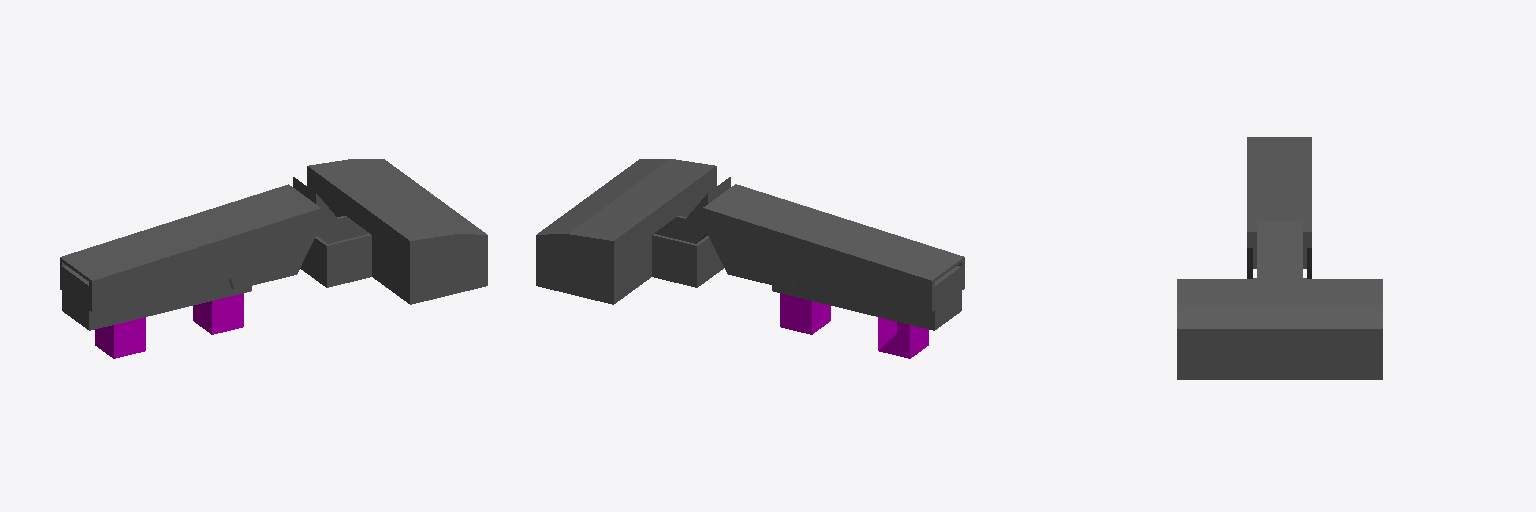
Rendered from IKEA.ART.60204645.obj.
3 views of the same model, side by side, from view 1: azimuth 30°, elevation 25°; view 2: azimuth 150°, elevation 25°; view 3: azimuth 270°, elevation 25° (orthographic).
Visible parts, largest first — view 1: model_model.004; view 2: model_model.004; view 3: model_model.004.
Boxes of the visible parts, box(x1,y1,x2,y2) form: model_model.004: box(60, 159, 487, 358); model_model.004: box(536, 159, 964, 358); model_model.004: box(1177, 137, 1382, 379).
Size of the model in its own units: 0.1171 by 0.0368 by 0.058.